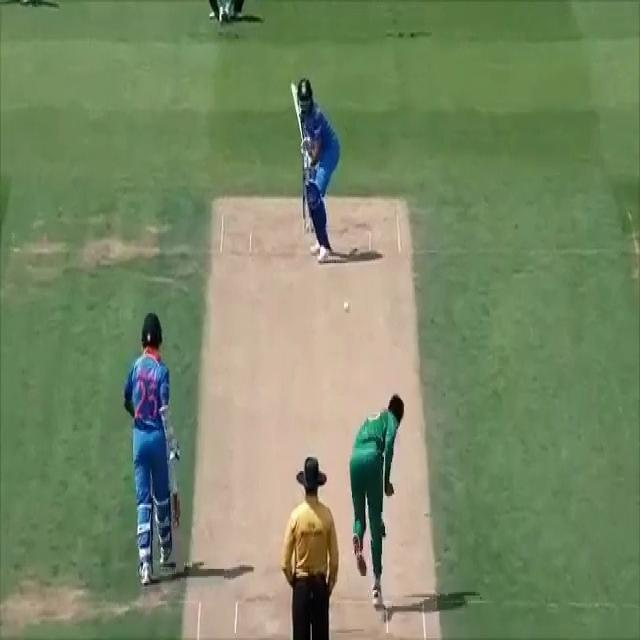ball: (344, 299, 351, 314)
